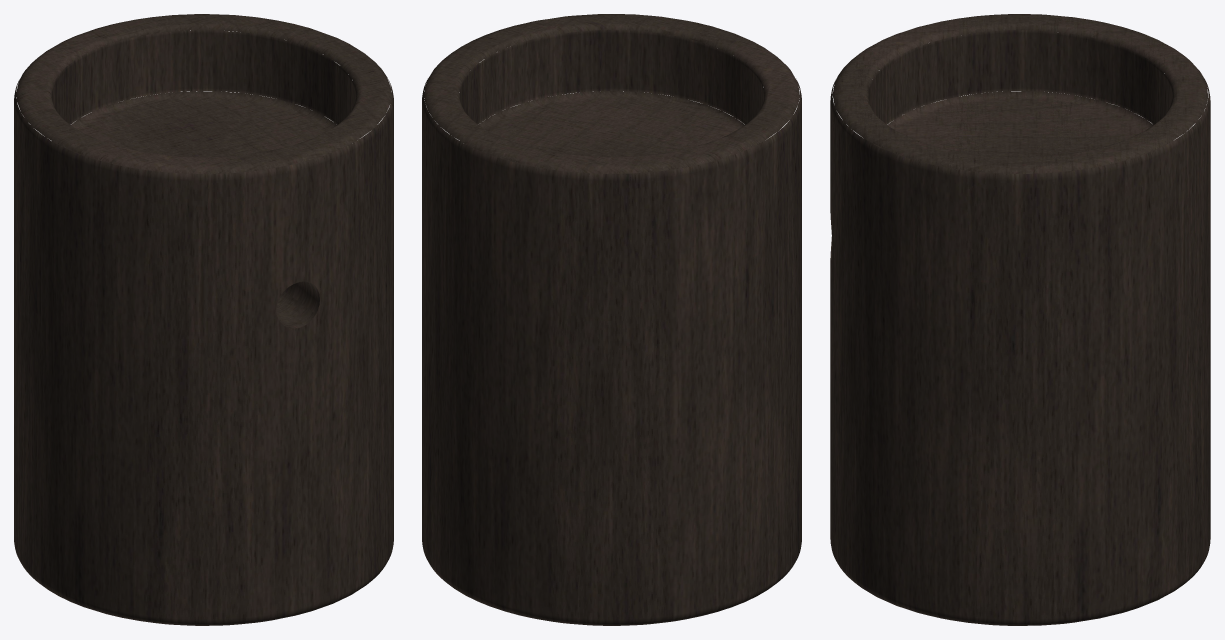
File: rook-black.glb
3 views of the same model, side by side, from view 1: azimuth 30°, elevation 25°; view 2: azimuth 150°, elevation 25°; view 3: azimuth 270°, elevation 25° (orthographic).
Parts seen in each view (by area): view 1: Cylindra_Věž_černý; view 2: Cylindra_Věž_černý; view 3: Cylindra_Věž_černý.
Boxes of the visible parts, <box> form: Cylindra_Věž_černý: <box>14,14,393,625</box>; Cylindra_Věž_černý: <box>422,14,801,625</box>; Cylindra_Věž_černý: <box>830,14,1210,625</box>.
Bounding box in the file's own units: 0.5325 × 0.71 × 0.5325.
Materials: 2 (2 with a texture image).
